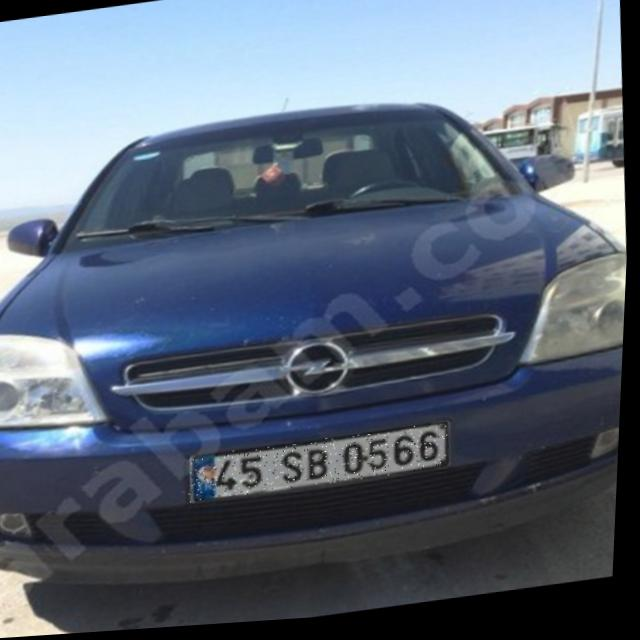license_plate: (190, 427, 455, 505)
